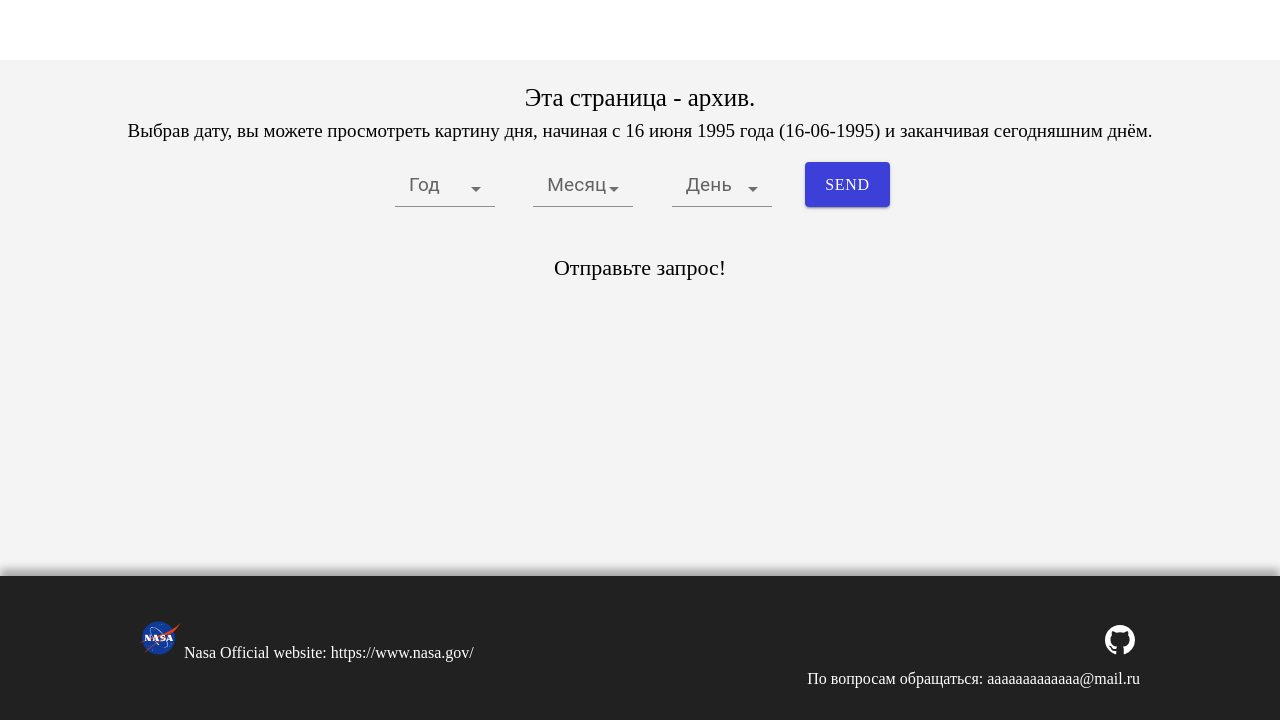
Archive tests › send with empties selects
What coordinates should you click on to do the following:
click the button with test id "Archive-button-send"
I would click on:
 (848, 185)
Its box is [805,162,890,207].
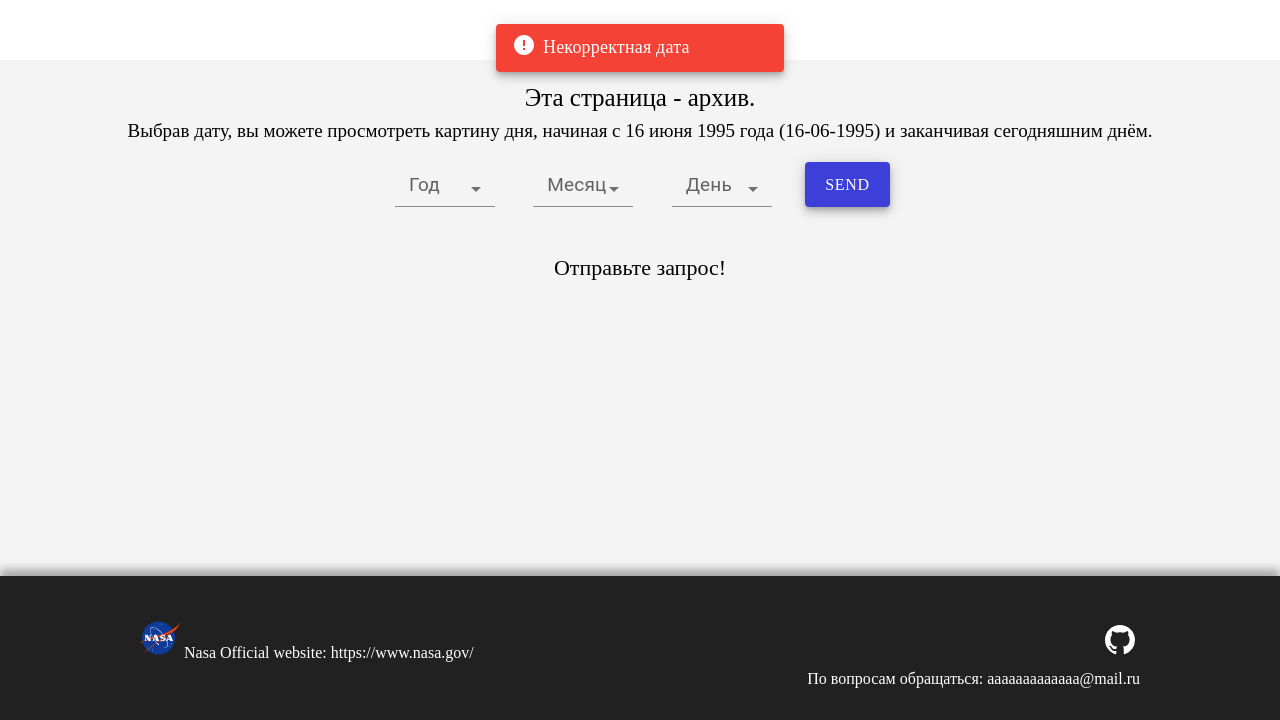
Result: the message "Некорректная дата" is shown at [496,24,784,72]
Result: the message with test id "error-send-alert" reads "Некорректная дата" at [543,37,690,57]
